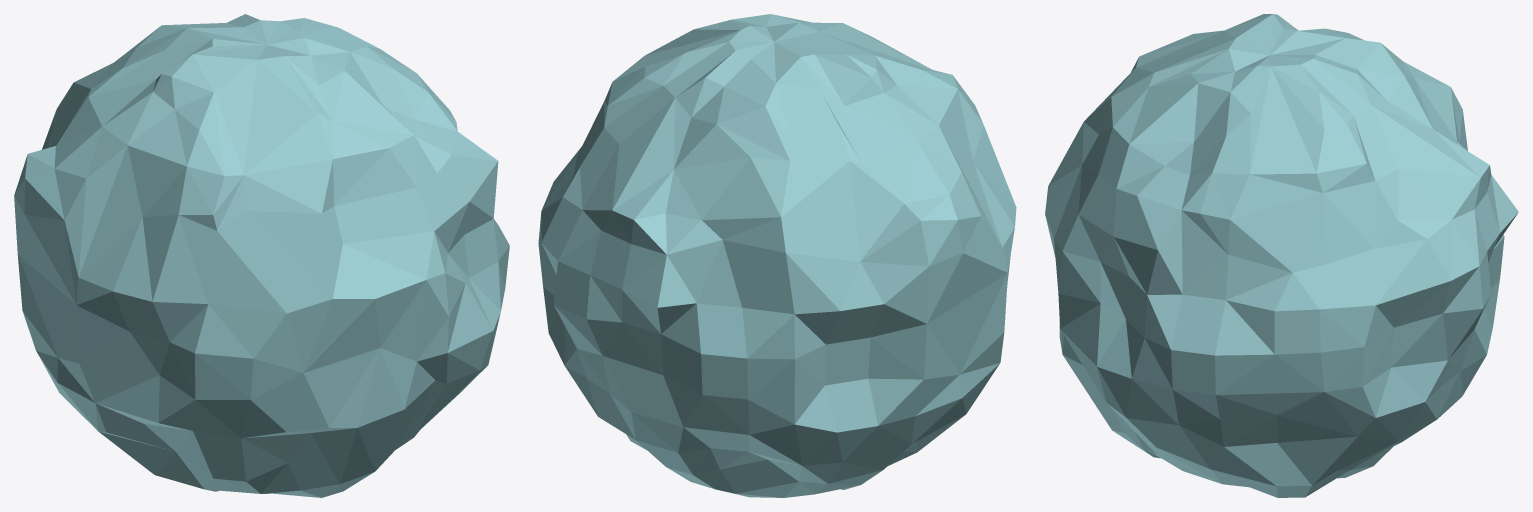
File: waterOrb.dae
3 views of the same model, side by side, from view 1: azimuth 30°, elevation 25°; view 2: azimuth 150°, elevation 25°; view 3: azimuth 270°, elevation 25° (orthographic). The views are drawn at different scales.
Visible parts, largest first — view 1: Sphere; view 2: Sphere; view 3: Sphere.
Boxes of the visible parts, left/top/right/bottom form: Sphere: left=14, top=14, right=509, bottom=497; Sphere: left=538, top=14, right=1016, bottom=497; Sphere: left=1045, top=14, right=1518, bottom=497.
Size of the model in its own units: 2 by 2.02 by 1.99.
